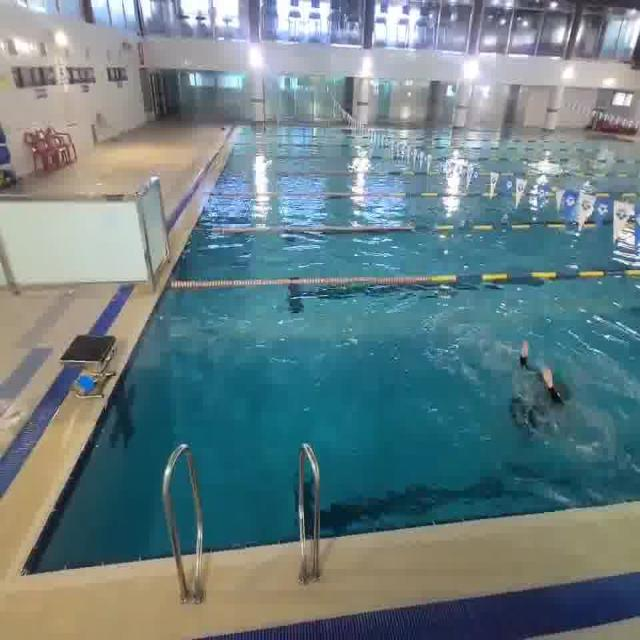Drowning: (498, 330, 586, 434)
